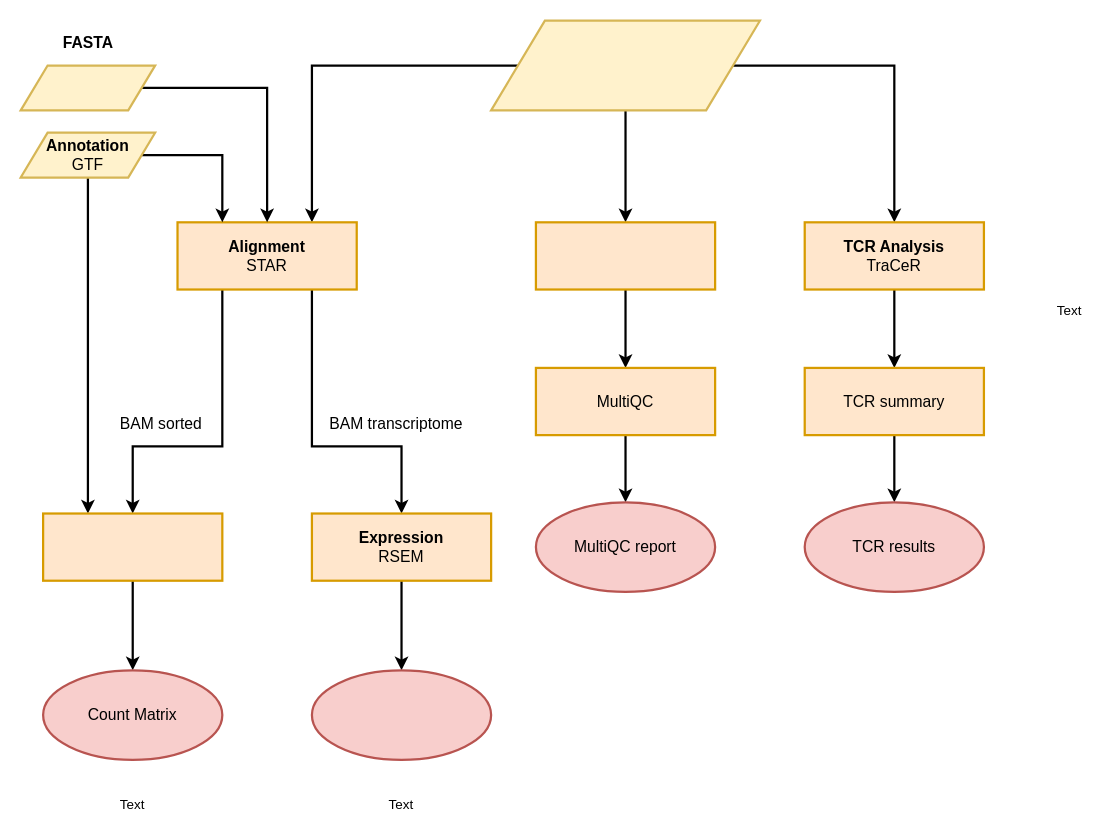
This 1110x834 diagram has some shape labels left out. The centre of each missing label's shape, as x and y in pixels:
"Expression Feature Counts" goes at point 132,546.
"FASTQ files" goes at point 624,65.
"Genome Hg38" goes at point 87,87.
"Quality Control FASTQC" goes at point 625,255.
"TPM matrix" goes at point 401,714.
